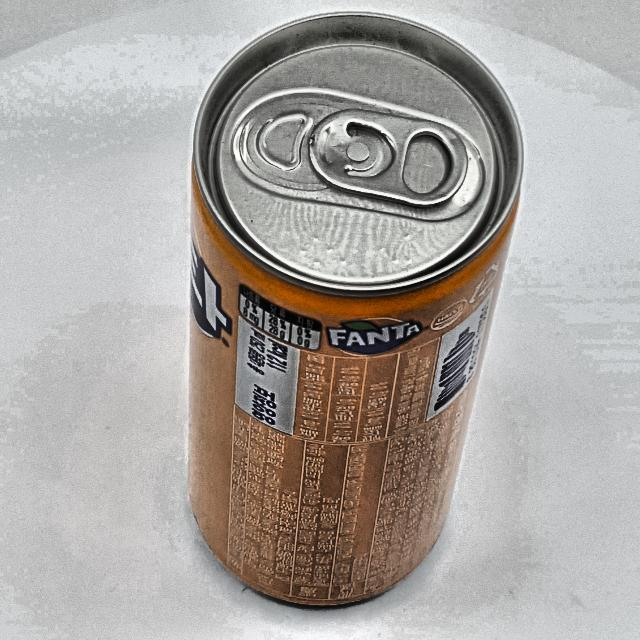fantaorange: (190, 14, 522, 605)
